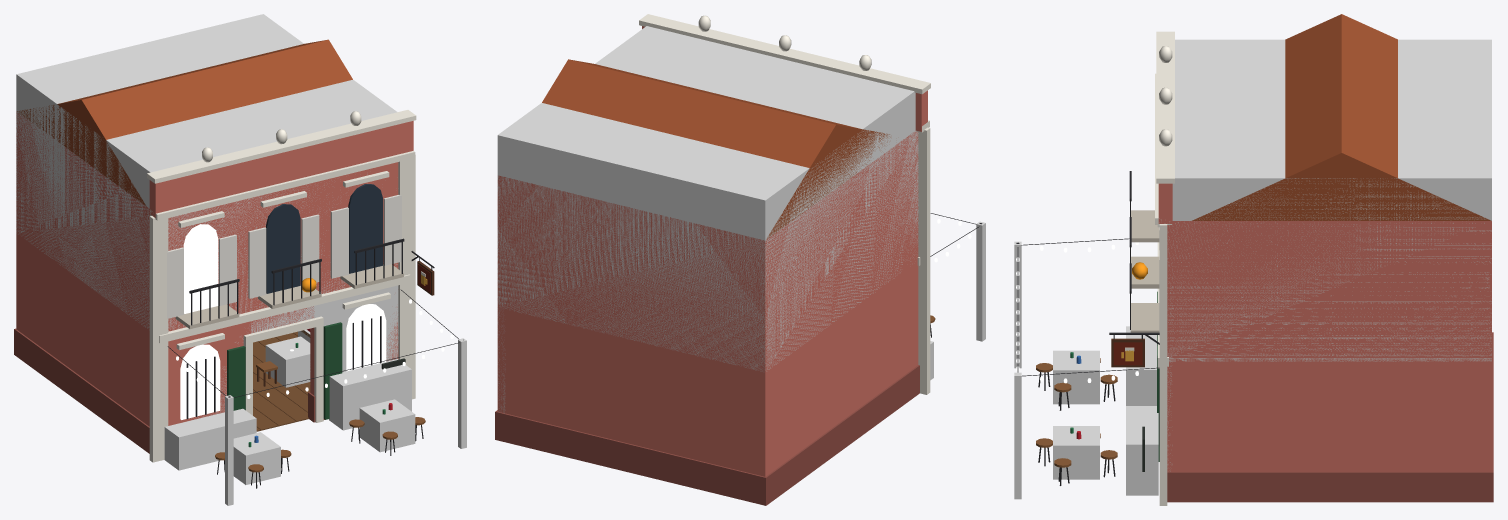
The model's file is taberna_arco.glb.
3 renders of one model, left to right at view 1: azimuth 30°, elevation 25°; view 2: azimuth 150°, elevation 25°; view 3: azimuth 270°, elevation 25°, orthographic. The views are drawn at different scales.
Visible parts, largest first — view 1: taberna_arco_Malla, COL_6, COL_17, COL_16, COL_13, COL_4, COL_12, COL_11, COL_14, COL_15, COL_5; view 2: taberna_arco_Malla, COL_6, COL_14; view 3: taberna_arco_Malla, COL_6, COL_17, COL_12, COL_13, COL_16, COL_15, COL_14.
Boxes of the visible parts, left/top/right/bottom form: taberna_arco_Malla: left=14, top=39, right=463, bottom=488; COL_6: left=16, top=14, right=397, bottom=331; COL_17: left=329, top=359, right=411, bottom=430; COL_16: left=164, top=408, right=256, bottom=470; COL_13: left=359, top=399, right=415, bottom=452; COL_4: left=310, top=285, right=398, bottom=372; COL_12: left=233, top=432, right=280, bottom=484; COL_11: left=265, top=336, right=310, bottom=387; COL_14: left=225, top=395, right=233, bottom=505; COL_15: left=458, top=338, right=466, bottom=448; COL_5: left=251, top=306, right=314, bottom=333; taberna_arco_Malla: left=495, top=14, right=982, bottom=505; COL_6: left=497, top=26, right=918, bottom=371; COL_14: left=976, top=221, right=985, bottom=341; taberna_arco_Malla: left=1016, top=14, right=1493, bottom=505; COL_6: left=1167, top=39, right=1491, bottom=361; COL_17: left=1126, top=406, right=1158, bottom=495; COL_12: left=1053, top=350, right=1099, bottom=404; COL_13: left=1053, top=426, right=1099, bottom=479; COL_16: left=1126, top=326, right=1156, bottom=405; COL_15: left=1014, top=372, right=1021, bottom=499; COL_14: left=1014, top=241, right=1021, bottom=368.
Bounding box in the file's own units: 7.44 × 8.2 × 10.22.
